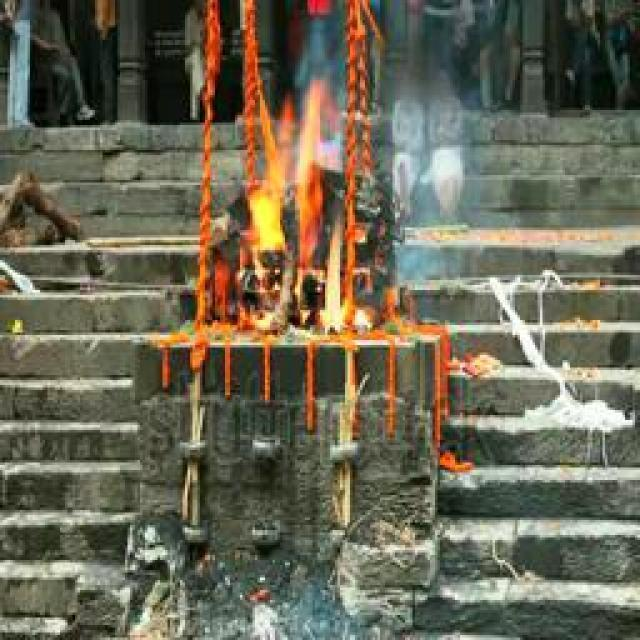Fire: (246, 90, 371, 330)
